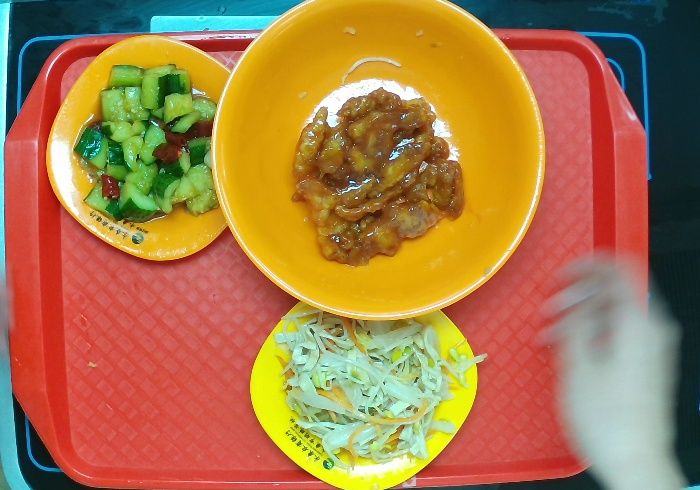YKMZ-Huang_Se_Fang_Die: (246, 306, 479, 490)
YKMZ-Ju_Se_Fang_Die: (43, 29, 243, 263)
YKMZ-Ju_Se_Tang_Wan: (210, 1, 548, 321)
